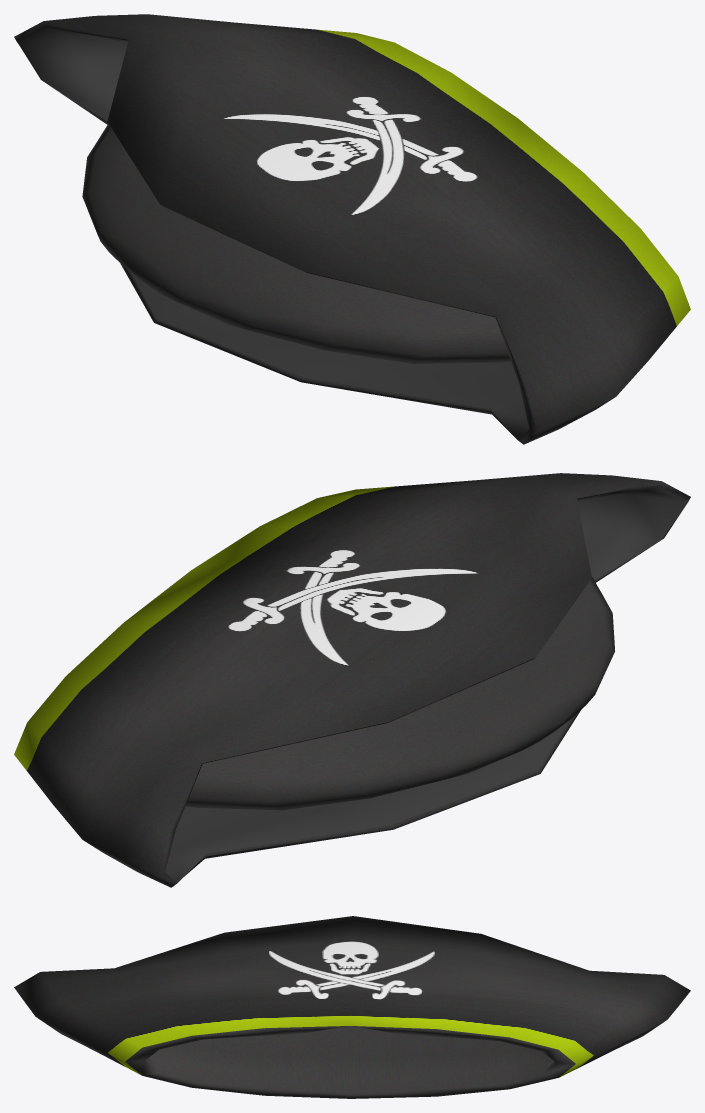
Rendered from PirateHat_WorldItem.fbx.
3 views of the same model, one above another, from view 1: azimuth 30°, elevation 25°; view 2: azimuth 150°, elevation 25°; view 3: azimuth 270°, elevation 25° (orthographic). The views are drawn at different scales.
Visible parts, largest first — view 1: Sphere_Sphere.001; view 2: Sphere_Sphere.001; view 3: Sphere_Sphere.001.
Part boxes in pixels (left/top/right/bottom): Sphere_Sphere.001: left=14, top=14, right=690, bottom=444; Sphere_Sphere.001: left=14, top=473, right=690, bottom=887; Sphere_Sphere.001: left=14, top=916, right=690, bottom=1098.
Bounding box in the file's own units: 0.297 × 0.1021 × 0.7119.
